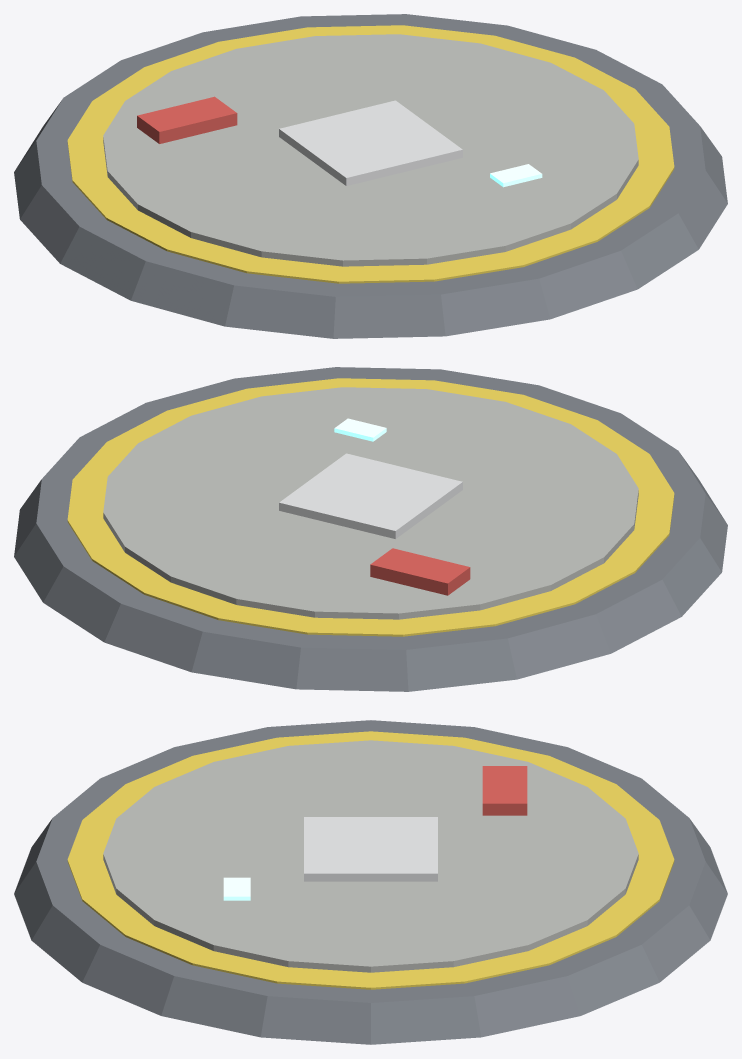
Rendered from charging-pad-round.glb.
The picture shows the model from 3 angles, top to bottom: view 1: azimuth 30°, elevation 25°; view 2: azimuth 150°, elevation 25°; view 3: azimuth 270°, elevation 25°; orthographic projection.
Parts seen in each view (by area): view 1: charging-pad-round; view 2: charging-pad-round; view 3: charging-pad-round.
Boxes of the visible parts, box(x1,y1,x2,y2) form: charging-pad-round: box(14, 14, 727, 338); charging-pad-round: box(14, 367, 727, 691); charging-pad-round: box(14, 720, 727, 1044).
Bounding box in the file's own units: 1.6 × 0.13 × 1.6.
